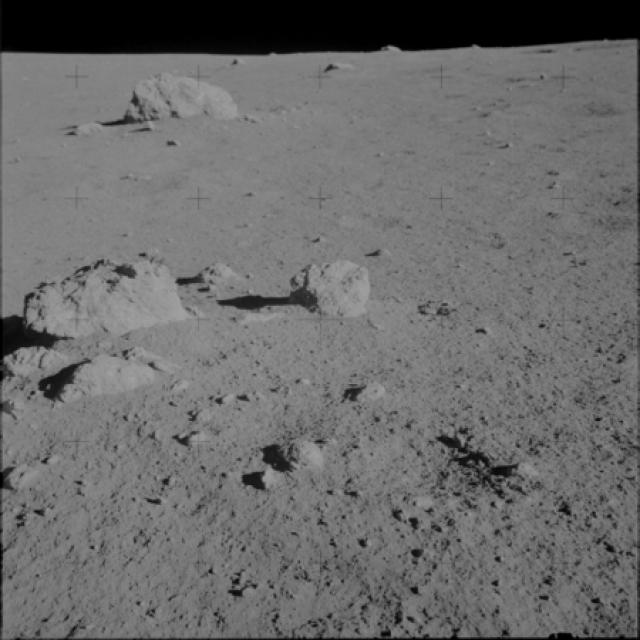rock: (22, 249, 188, 340), (54, 343, 162, 407), (289, 257, 381, 320), (255, 427, 342, 490), (0, 337, 80, 381), (0, 454, 59, 494), (192, 259, 251, 288), (344, 380, 382, 404)
